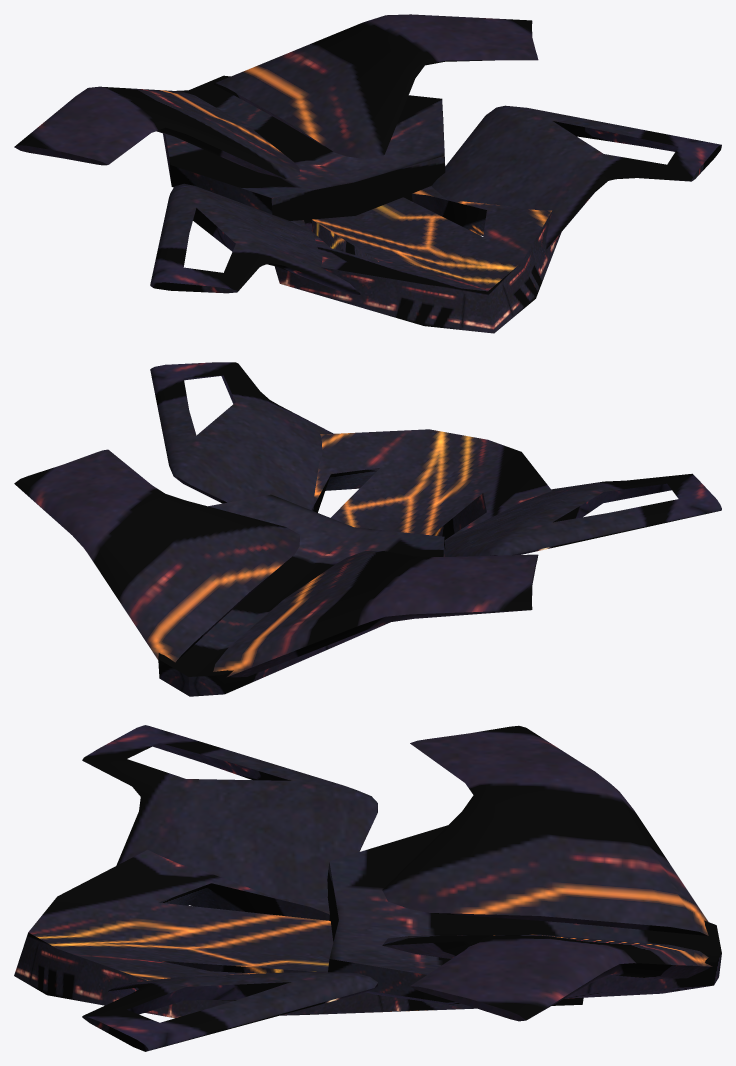
The model's file is ship16d.fbx.
3 views of the same model, one above another, from view 1: azimuth 30°, elevation 25°; view 2: azimuth 150°, elevation 25°; view 3: azimuth 270°, elevation 25° (orthographic). The views are drawn at different scales.
Parts seen in each view (by area): view 1: PipelineFBX; view 2: PipelineFBX; view 3: PipelineFBX.
Part boxes in pixels (x1,y1,x2,y2): PipelineFBX: (14, 14, 721, 333); PipelineFBX: (14, 362, 721, 696); PipelineFBX: (14, 725, 721, 1051).
Size of the model in its own units: 284 by 60.58 by 263.
Materials: 1 (1 with a texture image).
